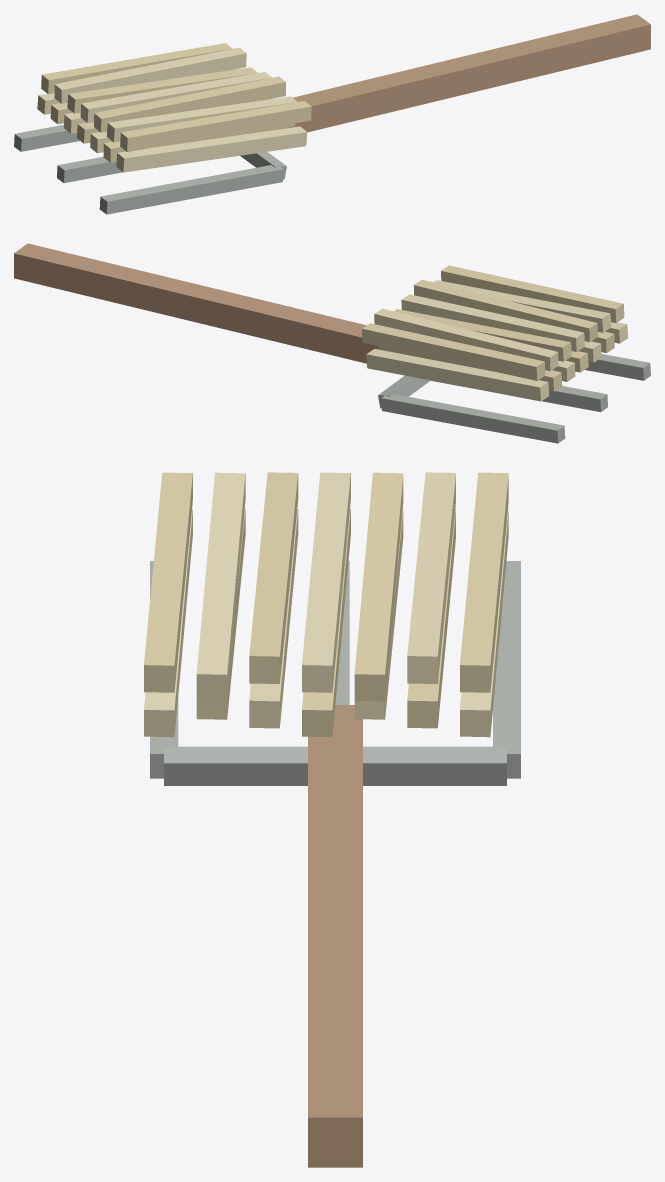
File: crafted-tool-hay-fork-2.glb
The picture shows the model from 3 angles, top to bottom: view 1: azimuth 30°, elevation 25°; view 2: azimuth 150°, elevation 25°; view 3: azimuth 270°, elevation 25°; orthographic projection. The views are drawn at different scales.
Parts seen in each view (by area): view 1: handle, hay-13, hay-6, tine-2, hay-8, hay-11, hay-7, hay-10, hay-12, hay-9, tine, tine-1 (+7 smaller); view 2: handle, hay-7, hay, tine, hay-8, hay-11, hay-10, hay-13, hay-9, hay-12, tine-1, tine-2 (+7 smaller); view 3: handle, fork-shoulder, hay-9, hay-12, hay-13, hay-10, hay-7, hay-11, hay-8, tine, hay-4, hay (+6 smaller).
Boxes of the visible parts, x1,y1,x2,y2 form: handle: (282,14,650,132); hay-13: (120,101,311,151); hay-6: (116,126,307,172); tine-2: (99,165,283,214); hay-8: (54,47,246,103); hay-11: (94,76,285,132); hay-7: (41,43,232,94); hay-10: (80,72,271,122); hay-12: (106,96,297,142); hay-9: (67,67,257,113); tine: (14,124,79,151); tine-1: (57,157,122,183); handle: (14,243,378,363); hay-7: (362,323,545,380); hay: (366,349,549,401); tine: (381,394,565,443); hay-8: (374,308,558,371); hay-11: (413,279,597,342); hay-10: (401,294,584,351); hay-13: (441,265,624,322); hay-9: (394,309,571,361); hay-12: (434,280,611,332); tine-1: (431,380,607,412); tine-2: (585,354,650,380); handle: (308,705,362,1167); fork-shoulder: (164,746,506,785); hay-9: (354,472,403,701); hay-12: (196,472,245,701); hay-13: (144,472,192,692); hay-10: (302,472,350,692); hay-7: (460,472,508,692); hay-11: (249,472,298,683); hay-8: (407,472,455,683); tine: (493,561,520,778); hay-4: (249,508,298,728); hay: (460,509,508,737).
Bounding box in the file's own units: 1.1 × 0.1441 × 0.308.
